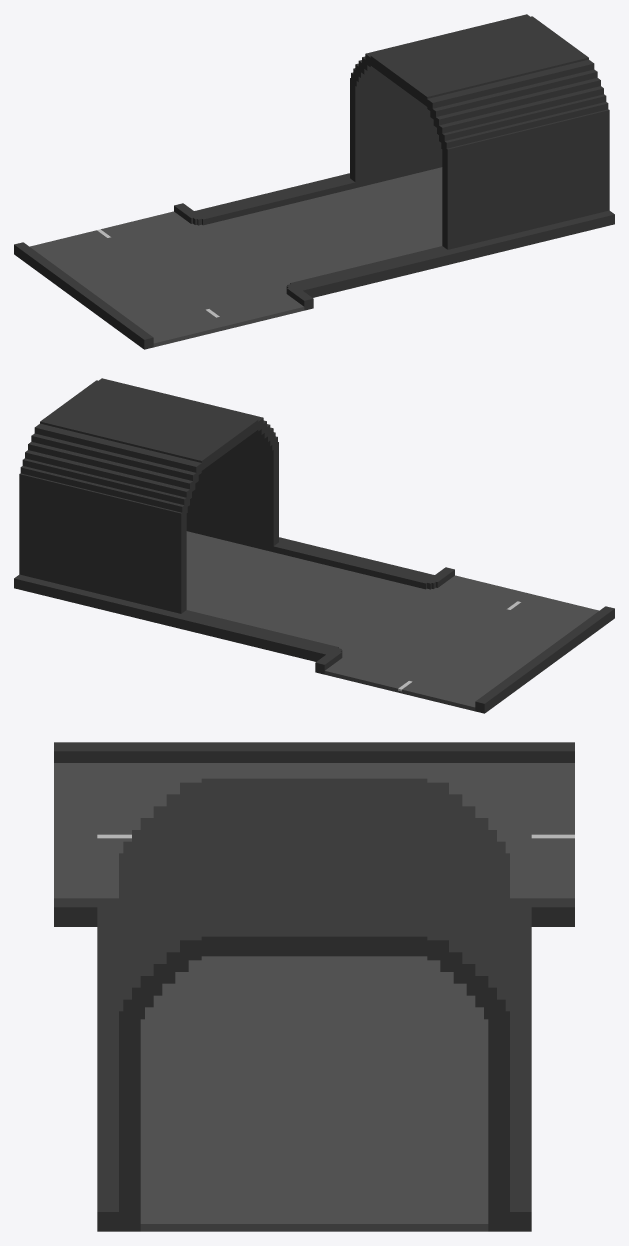
Rendered from Tunnel.obj.
The picture shows the model from 3 angles, top to bottom: view 1: azimuth 30°, elevation 25°; view 2: azimuth 150°, elevation 25°; view 3: azimuth 270°, elevation 25°; orthographic projection. The views are drawn at different scales.
Bounding box in the file's own units: 25.6 × 7.5 × 12.
Materials: 1 (1 with a texture image).
